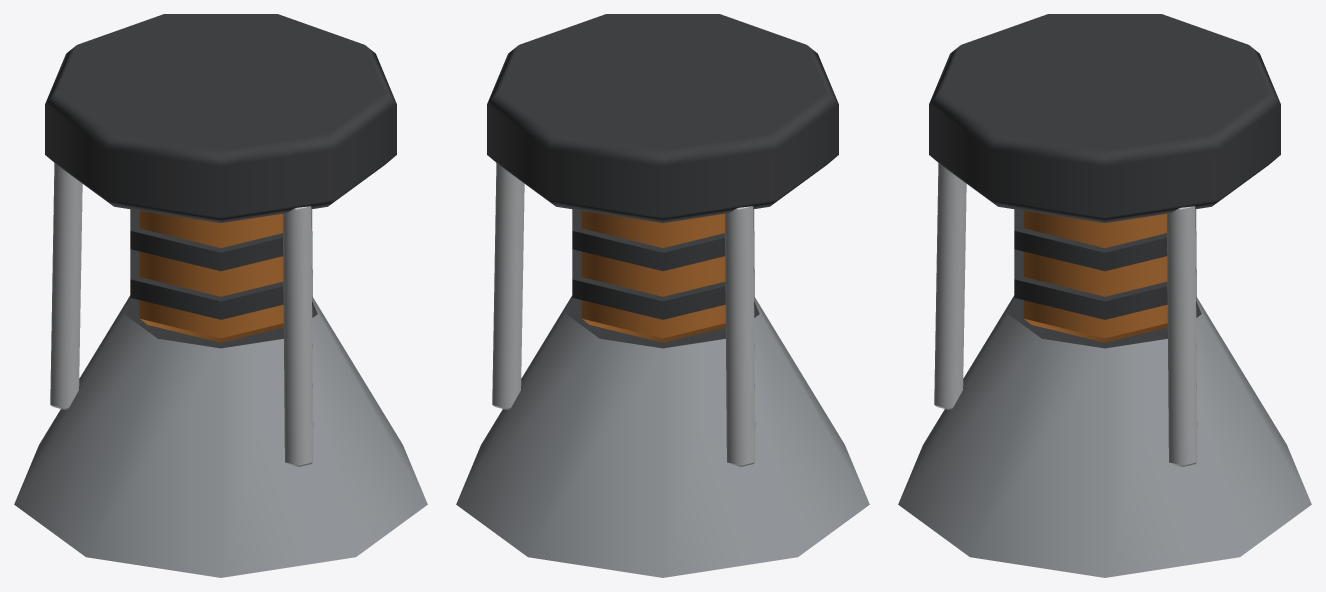
File: R4X_JumpDrive_LOD1.fbx
3 renders of one model, left to right at view 1: azimuth 30°, elevation 25°; view 2: azimuth 150°, elevation 25°; view 3: azimuth 270°, elevation 25°, orthographic.
Parts seen in each view (by area): view 1: R4X_JumpDrive_LOD1; view 2: R4X_JumpDrive_LOD1; view 3: R4X_JumpDrive_LOD1.
Boxes of the visible parts, x1,y1,x2,y2 form: R4X_JumpDrive_LOD1: (14, 14, 427, 577); R4X_JumpDrive_LOD1: (456, 14, 869, 577); R4X_JumpDrive_LOD1: (898, 14, 1311, 577).
Size of the model in its own units: 0.4558 by 0.51 by 0.4629.
